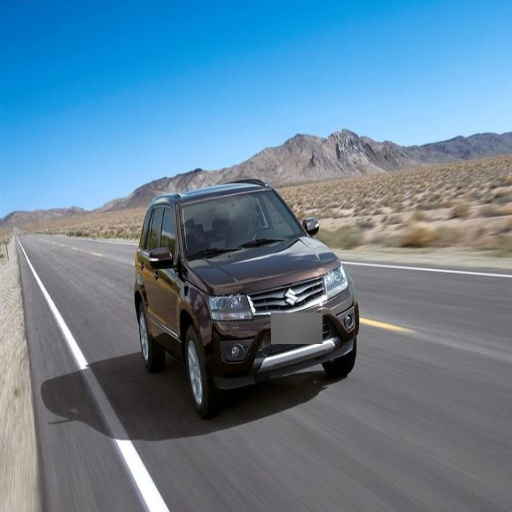front_bumper: (203, 275, 358, 387)
front_right_door: (151, 203, 181, 335)
hood: (195, 237, 338, 291)
